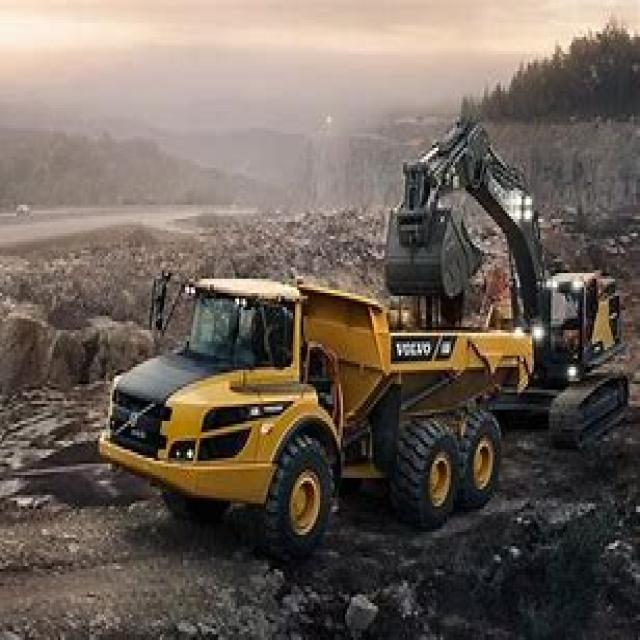dump_truck: (87, 262, 530, 546)
excavator: (378, 102, 630, 452)
